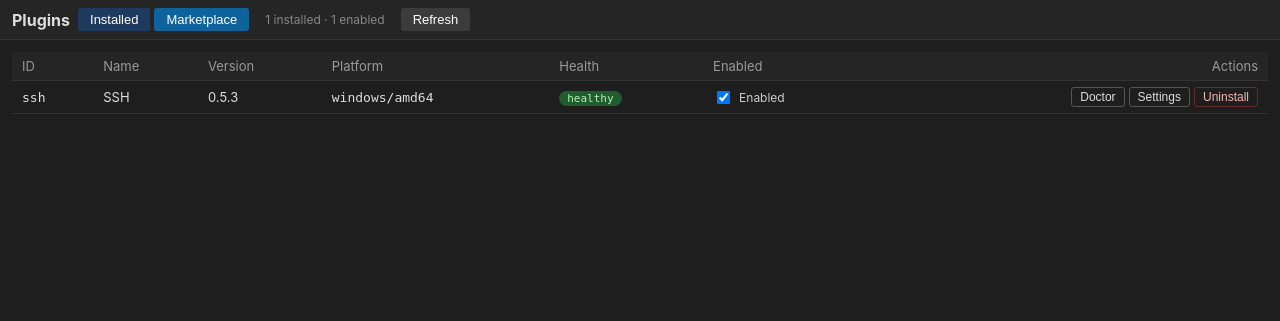
Test: PluginsPage · Marketplace tab › shows offline-cache banner rows when RefreshCatalog returns from_cache=true
Click the button "Marketplace": [202, 20] box [154,8,249,31]
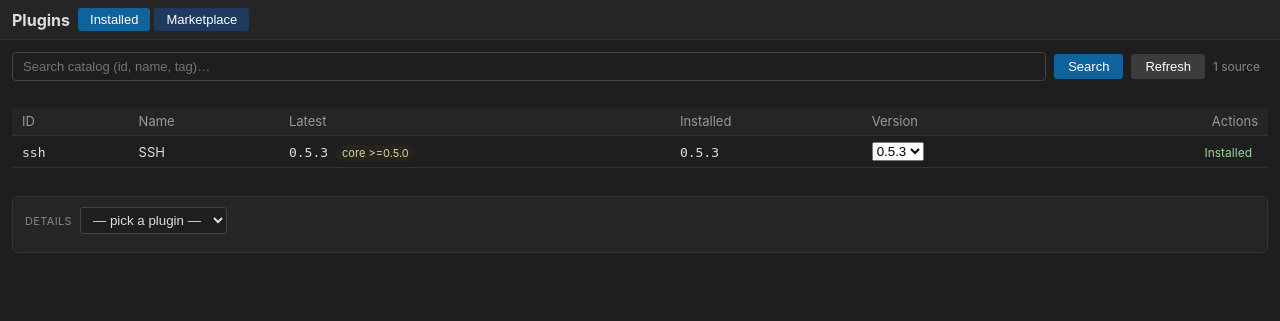
Click the button "Refresh": [1168, 66] box [1131,54,1205,79]
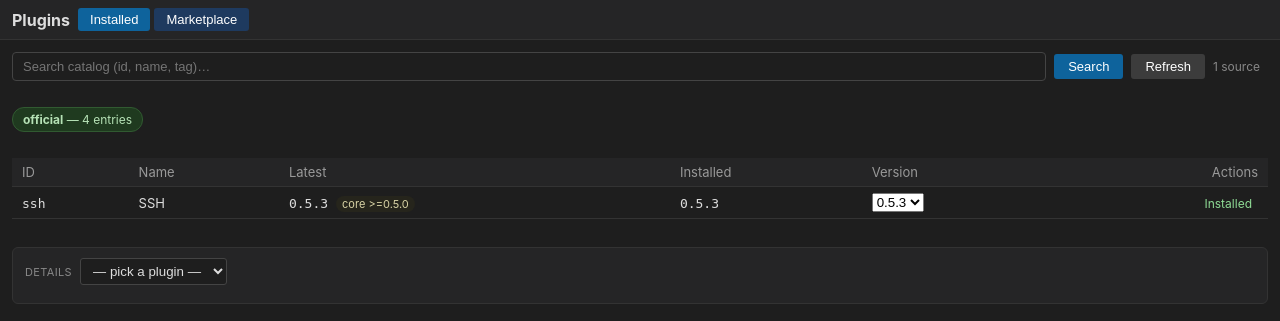
Expected: the text "official — 4 entries" is shown, [12,107,143,132]
Expected: the text "official" is shown, [23,112,63,127]
